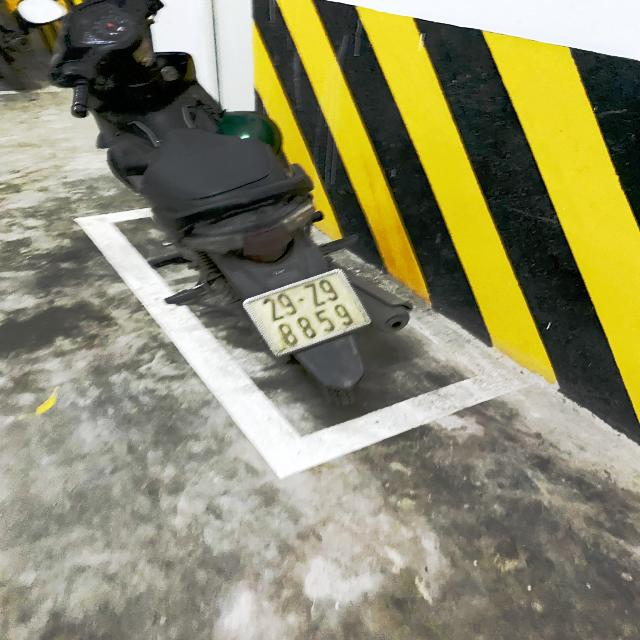license_plate: (245, 269, 383, 363)
